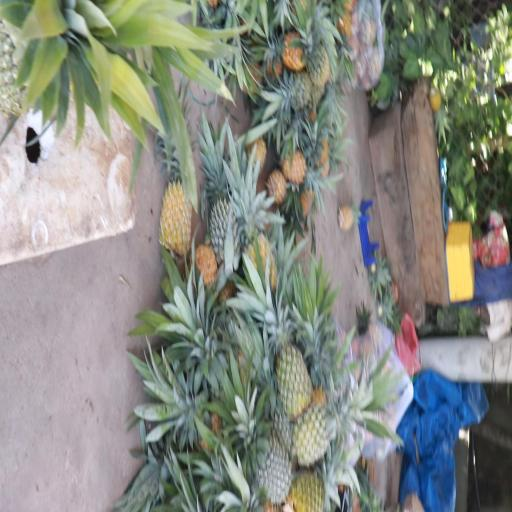------------------------------: (258, 294, 314, 415), (294, 380, 364, 462)
Pineapple - v8 v1: (159, 118, 197, 253), (238, 188, 284, 298), (278, 140, 328, 188), (272, 24, 310, 72)
